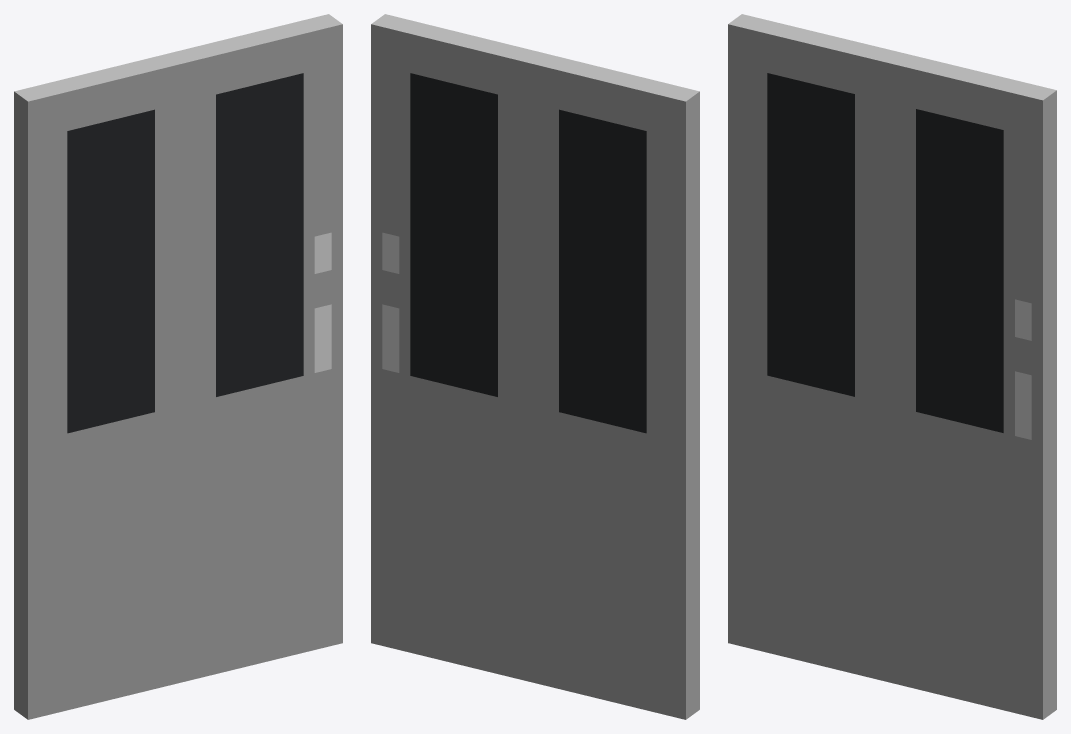
File: AI_Env_Door_01.fbx
The picture shows the model from 3 angles, left to right: view 1: azimuth 30°, elevation 25°; view 2: azimuth 150°, elevation 25°; view 3: azimuth 330°, elevation 25°; orthographic projection.
Visible parts, largest first — view 1: AI_Env_Door_01; view 2: AI_Env_Door_01; view 3: AI_Env_Door_01.
Boxes of the visible parts, bbox=[...] form: AI_Env_Door_01: bbox=[14, 14, 342, 719]; AI_Env_Door_01: bbox=[371, 14, 699, 719]; AI_Env_Door_01: bbox=[728, 14, 1056, 719].
Bounding box in the file's own units: 2 × 3.75 × 0.1534.
